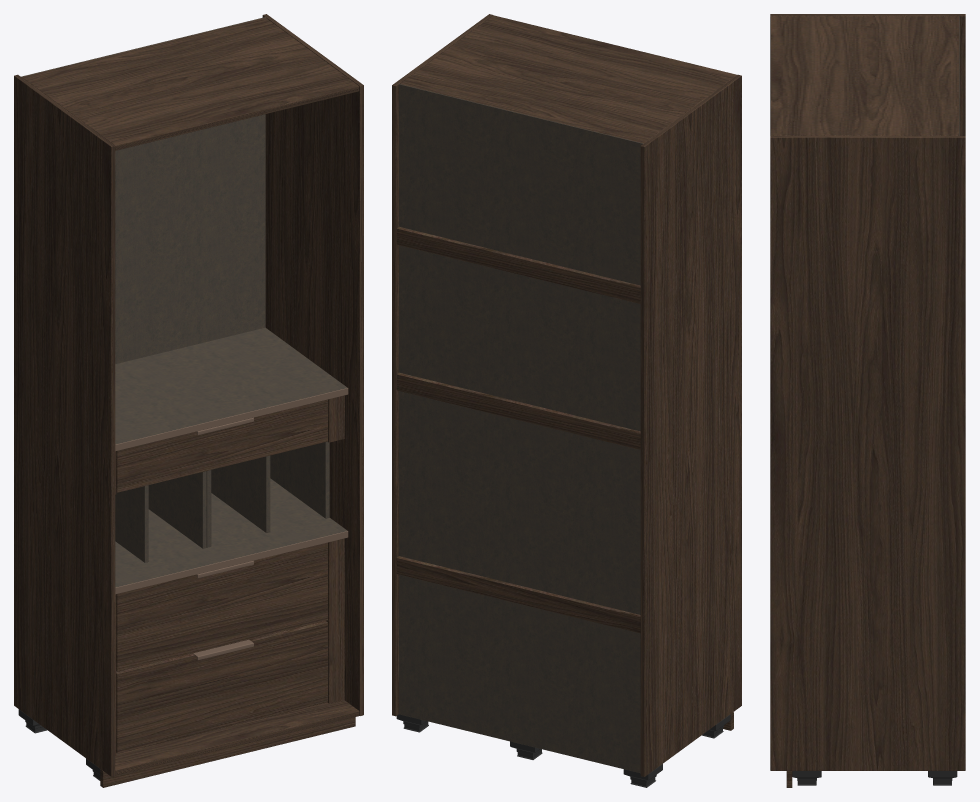
3 renders of one model, left to right at view 1: azimuth 30°, elevation 25°; view 2: azimuth 150°, elevation 25°; view 3: azimuth 270°, elevation 25°, orthographic.
Visible parts, largest first — view 1: HK1001096, BONG_01; view 2: HK1001096; view 3: HK1001096.
Part boxes in pixels (<box>): HK1001096: <box>14,14,363,787</box>; BONG_01: <box>193,417,253,660</box>; HK1001096: <box>392,14,741,787</box>; HK1001096: <box>770,14,965,787</box>.
Bounding box in the file's own units: 0.9 × 2.2 × 0.6.
Materials: 7 (6 with a texture image).
